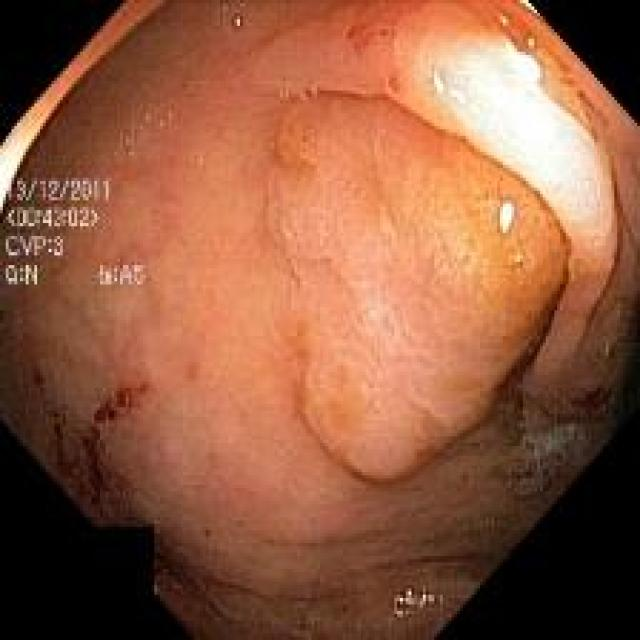Polyps: (266, 93, 568, 483)
